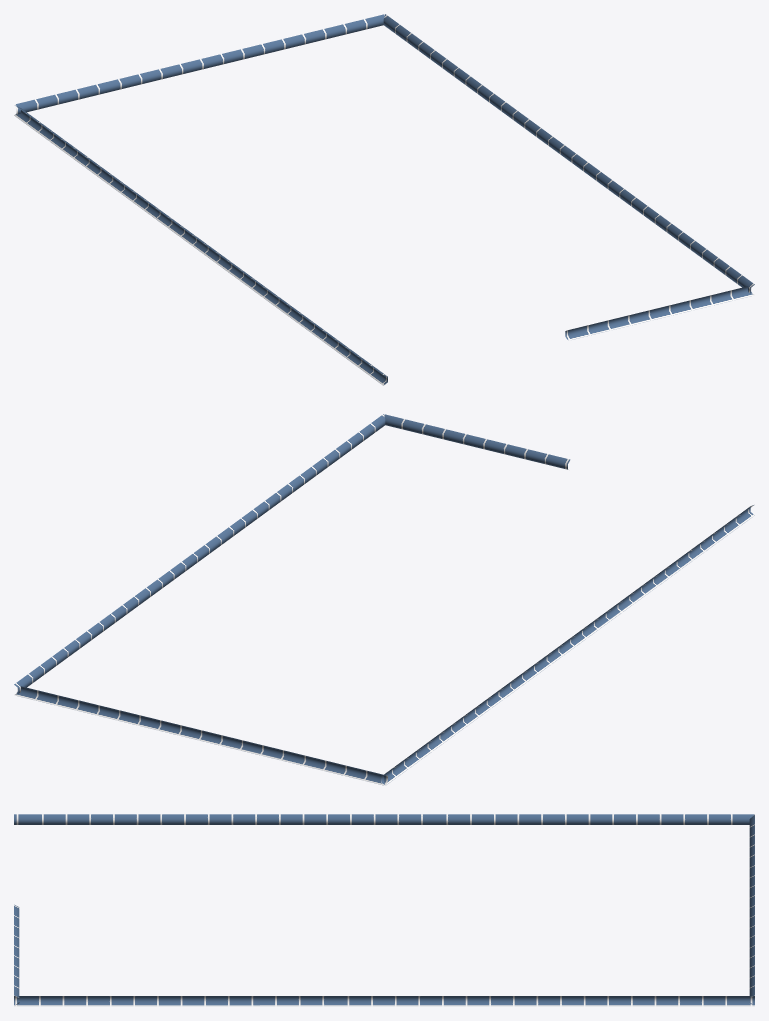
File: M_WCqiangxian01.FBX
3 renders of one model, top to bottom at view 1: azimuth 30°, elevation 25°; view 2: azimuth 150°, elevation 25°; view 3: azimuth 270°, elevation 25°, orthographic.
Parts seen in each view (by area): view 1: M_WCqiangxian01; view 2: M_WCqiangxian01; view 3: M_WCqiangxian01.
Boxes of the visible parts, x1=… form: M_WCqiangxian01: x1=14, y1=14, x2=754, y2=385; M_WCqiangxian01: x1=14, y1=414, x2=754, y2=785; M_WCqiangxian01: x1=14, y1=814, x2=754, y2=1006.
Size of the model in its own units: 4.24 by 0.1181 by 7.3.
